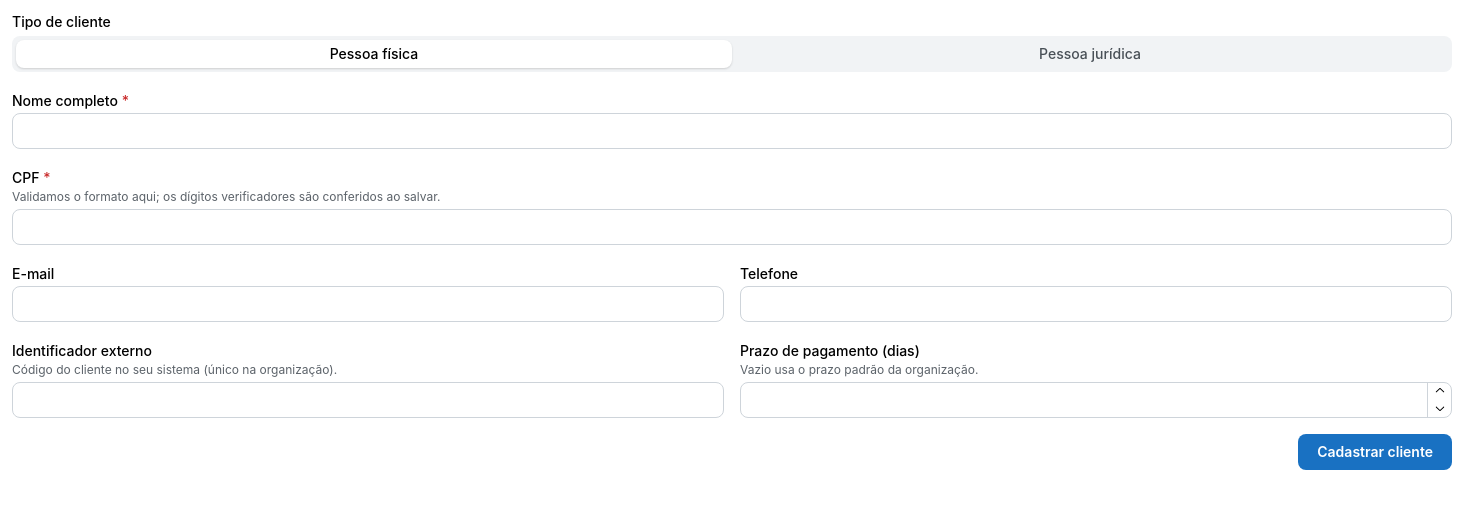
formulário de cliente › valida o formato do CPF para pessoa física
Type "Maria Silva" into the field labelled "Nome completo *" at x=732, y=131, box x1=12 y1=113 x2=1452 y2=149
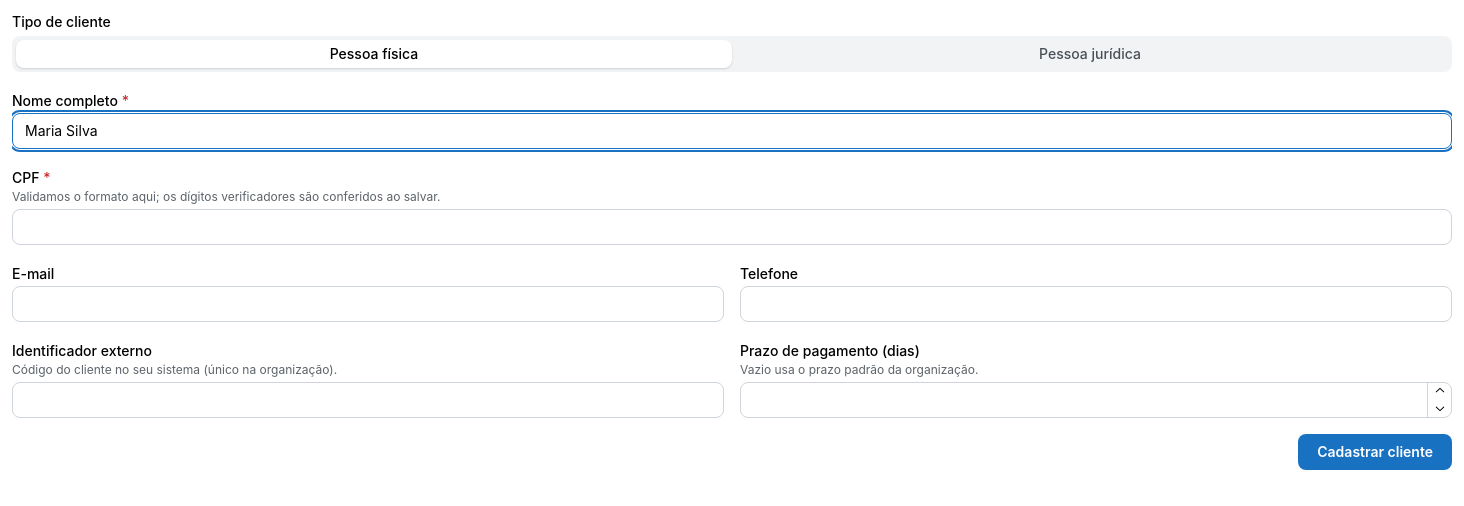
Type "123.456" into the field labelled "CPF *" at x=732, y=227, box x1=12 y1=209 x2=1452 y2=245
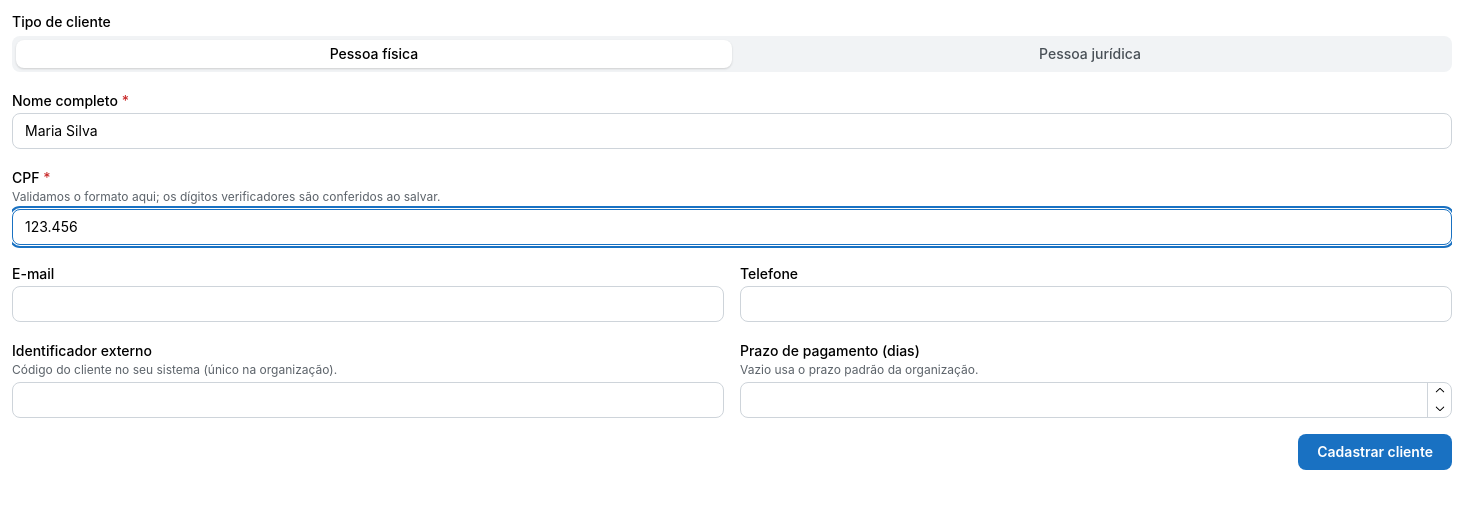
Click the button "Cadastrar cliente" at x=1375, y=452, box x1=1298 y1=434 x2=1452 y2=470
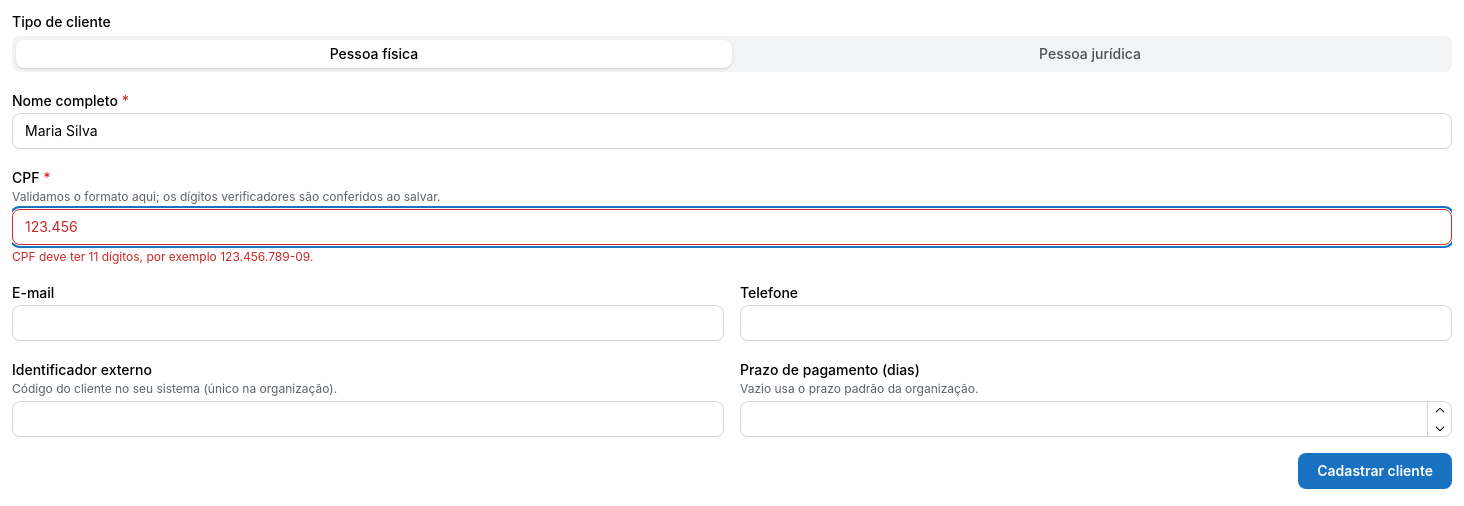
Check: the text "CPF deve ter 11 dígitos, por exemplo 123.456.789-09." is shown, box x1=12 y1=249 x2=313 y2=264
